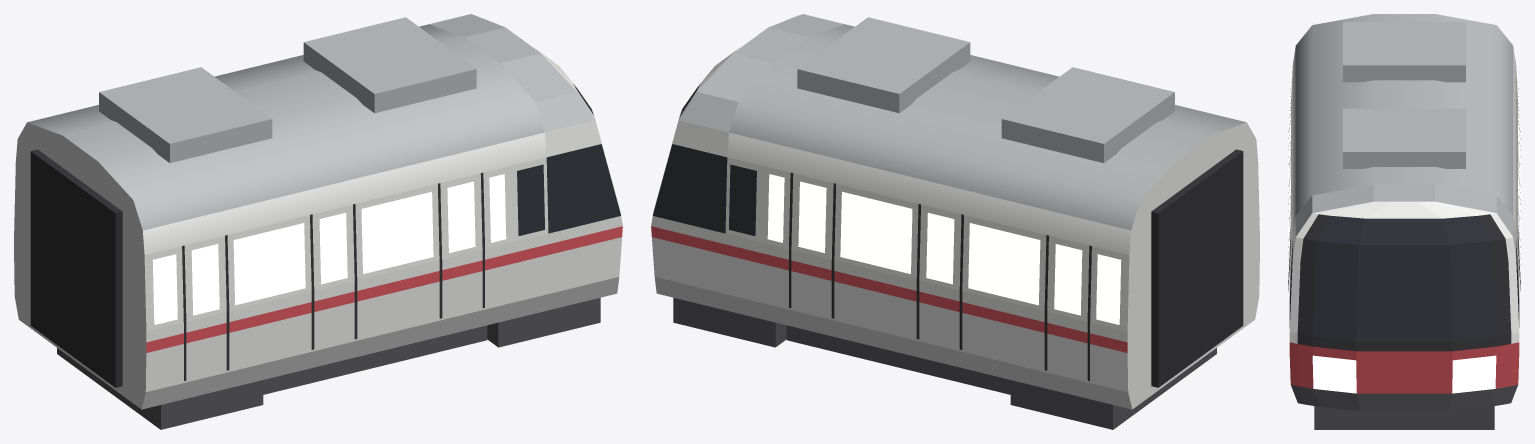
The model's file is tmb6000_cab_lod1.glb.
The picture shows the model from 3 angles, left to right: view 1: azimuth 30°, elevation 25°; view 2: azimuth 150°, elevation 25°; view 3: azimuth 270°, elevation 25°; orthographic projection. The views are drawn at different scales.
Visible parts, largest first — view 1: TMB6000_cab_lod1; view 2: TMB6000_cab_lod1; view 3: TMB6000_cab_lod1.
Part boxes in pixels (left/top/right/bottom): TMB6000_cab_lod1: left=14, top=14, right=622, bottom=429; TMB6000_cab_lod1: left=651, top=14, right=1259, bottom=429; TMB6000_cab_lod1: left=1288, top=14, right=1520, bottom=429.
Bounding box in the file's own units: 0.4938 × 0.25 × 0.227.
